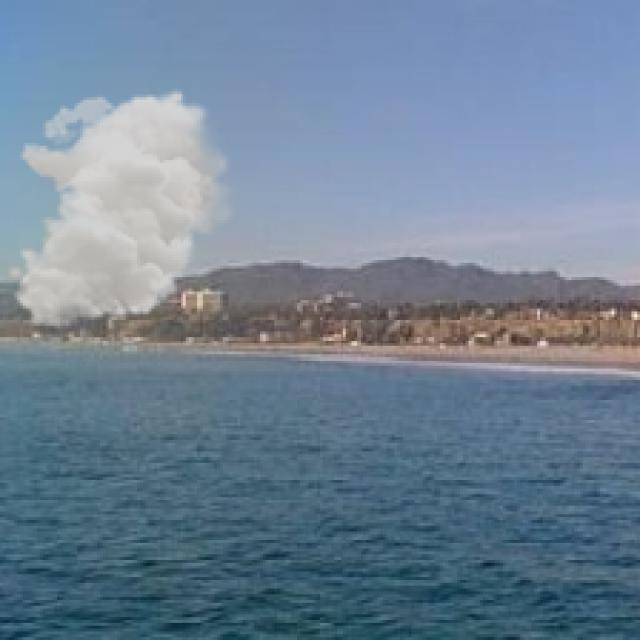Smoke: (6, 89, 240, 328)
